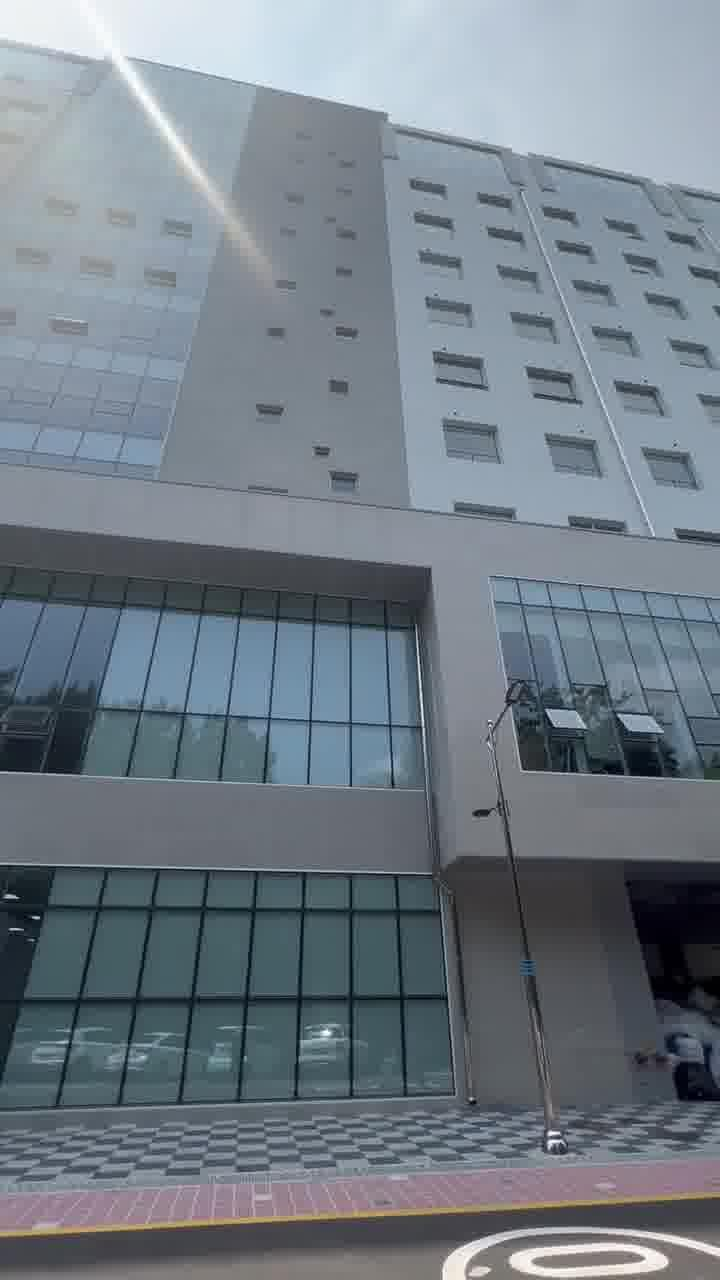building: (0, 32, 642, 1122)
